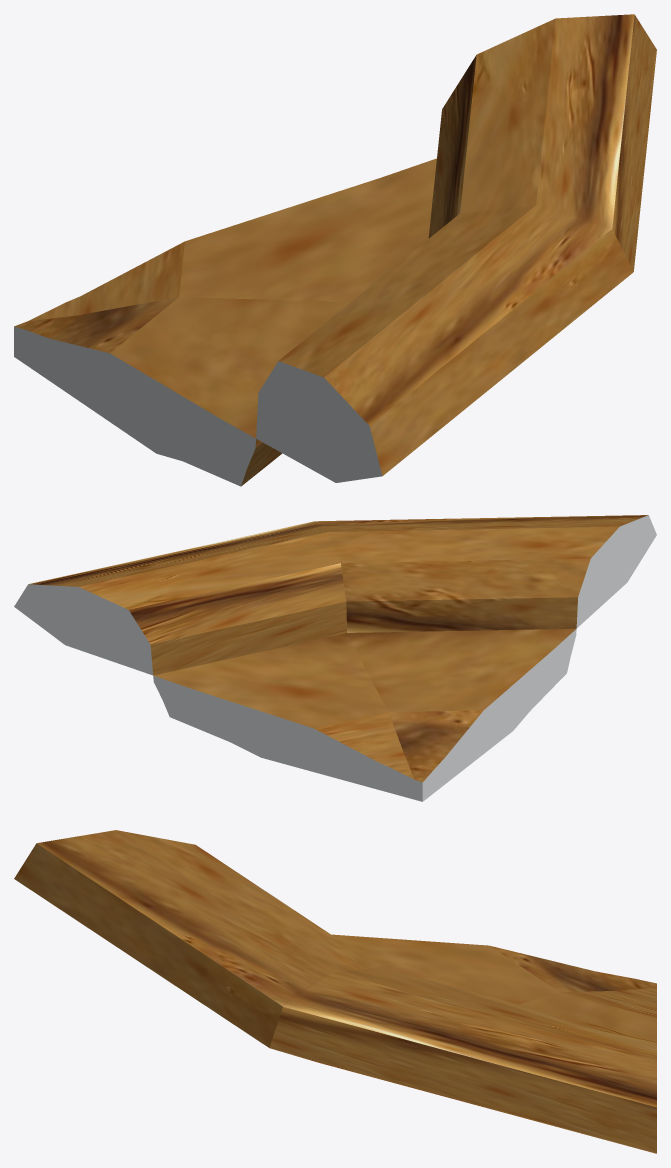
Rendered from rec7.gltf.
The picture shows the model from 3 angles, top to bottom: view 1: azimuth 30°, elevation 25°; view 2: azimuth 150°, elevation 25°; view 3: azimuth 270°, elevation 25°; orthographic projection. The views are drawn at different scales.
Parts seen in each view (by area): view 1: 평면; view 2: 평면; view 3: 평면.
Part boxes in pixels (box(x1,y1,x2,y2)): 평면: box(14, 14, 656, 486); 평면: box(14, 515, 656, 801); 평면: box(14, 830, 656, 1153).
Bounding box in the file's own units: 0.313 × 0.0959 × 0.3107.
Materials: 1 (1 with a texture image).
